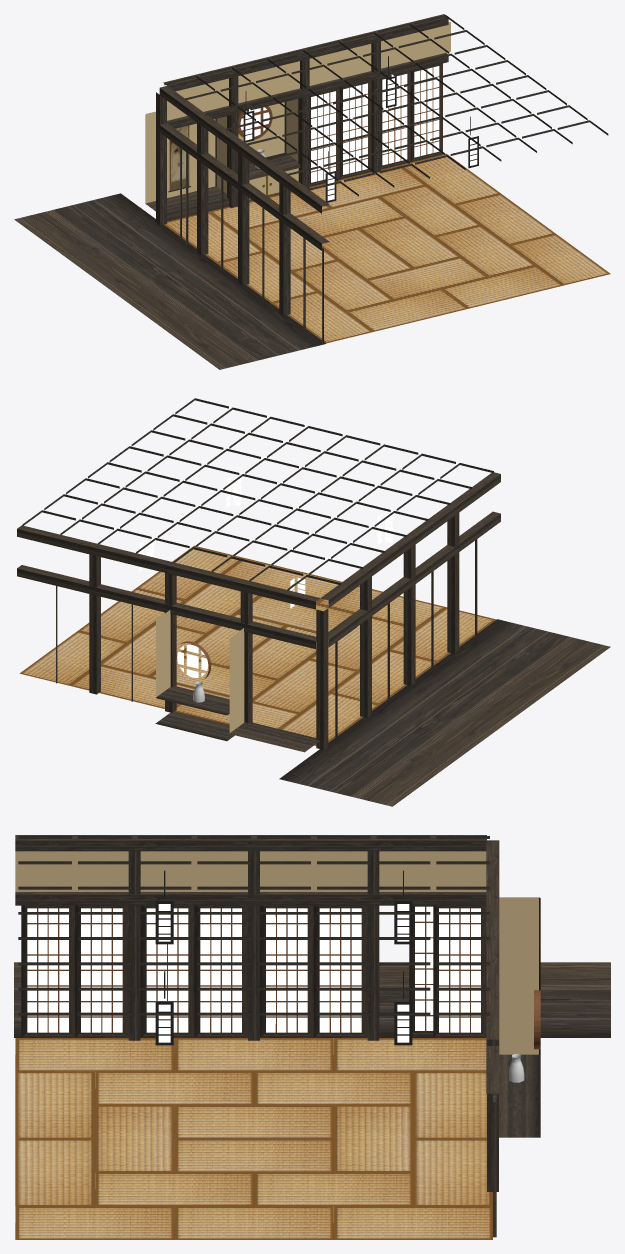
The model's file is Interior.glb.
The picture shows the model from 3 angles, top to bottom: view 1: azimuth 30°, elevation 25°; view 2: azimuth 150°, elevation 25°; view 3: azimuth 270°, elevation 25°; orthographic projection. The views are drawn at different scales.
Parts seen in each view (by area): view 1: Plane.029, Plane.053, Plane.017, Plane.026, Cube.010, Plane.033, Plane.035, Plane.010, Plane.013, Plane.014, Plane.012, Plane.007 (+29 smaller); view 2: Plane.029, Plane.053, Cube.010, Cube.008, Plane.021, Cube.011, Plane.026, Cube.009, Plane.020, Plane.004, Plane.015, Plane.002 (+23 smaller); view 3: Plane.016, Plane.053, Plane.029, Plane.021, Cube.011, Plane.023, Plane.028, Plane.024, Plane.025, Plane.031, Plane.032, Cube.009 (+29 smaller).
Boxes of the visible parts, x1,y1,x2,y2 form: Plane.029: (14,193,325,369); Plane.053: (164,15,608,196); Plane.017: (167,22,450,120); Plane.026: (145,111,229,221); Cube.010: (163,14,448,91); Plane.033: (410,63,442,161); Plane.035: (339,81,371,179); Plane.010: (366,257,487,300); Plane.013: (346,289,467,331); Plane.014: (441,265,562,308); Plane.012: (434,225,535,276); Plane.007: (359,217,460,268); Plane.029: (279,619,610,806); Plane.053: (22,398,493,590); Cube.010: (17,525,320,609); Cube.008: (17,565,316,648); Plane.021: (155,610,234,741); Cube.011: (320,472,500,607); Plane.026: (229,628,319,752); Cube.009: (328,511,500,647); Plane.020: (20,631,127,685); Plane.004: (252,659,358,713); Plane.015: (390,607,496,661); Plane.002: (330,650,438,704); Plane.016: (15,851,486,891); Plane.053: (18,836,489,1015); Plane.029: (14,962,610,1037); Plane.021: (499,949,540,1137); Cube.011: (15,835,486,851); Plane.023: (313,905,367,1037); Plane.028: (194,905,247,1037); Plane.024: (433,905,486,1037); Plane.025: (260,905,313,1037); Plane.031: (75,905,128,1037); Plane.032: (21,905,74,1037); Cube.009: (15,892,486,905).
Size of the model in its own units: 11.13 by 3.8 by 10.
4 materials, 1 textured.
